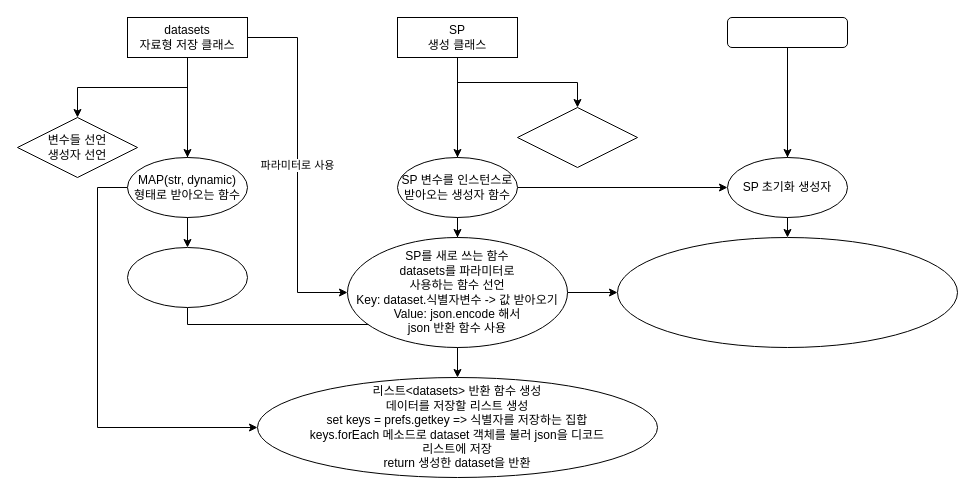
This 975x495 diagram has some shape labels left out. Here are the shapes that lost their labels. From the top down, the box of each, then its label:
(726, 16, 848, 48): Main Page
(516, 106, 638, 168): SP 인스턴스 변수 선언
(126, 246, 248, 308): MAP(str, dynamic) 자료형 반환 함수
(616, 236, 958, 348): dataset을 저장하는 함수 저장할 변수 선언 dataset 생성후 파라미터 넣기 생성된 dataset을 파라미터로 SP쓰기함수 실행
